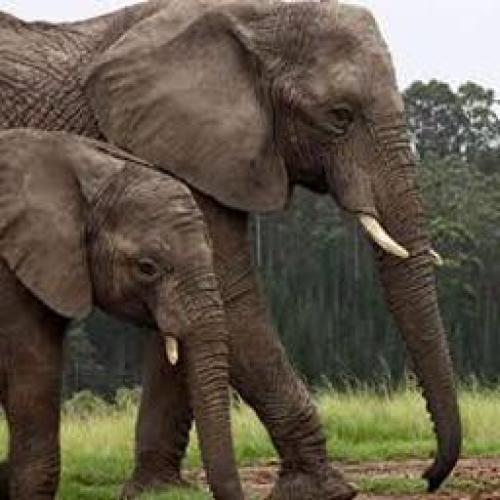african_elephant-endangered: (0, 0, 464, 492), (0, 126, 245, 500)
